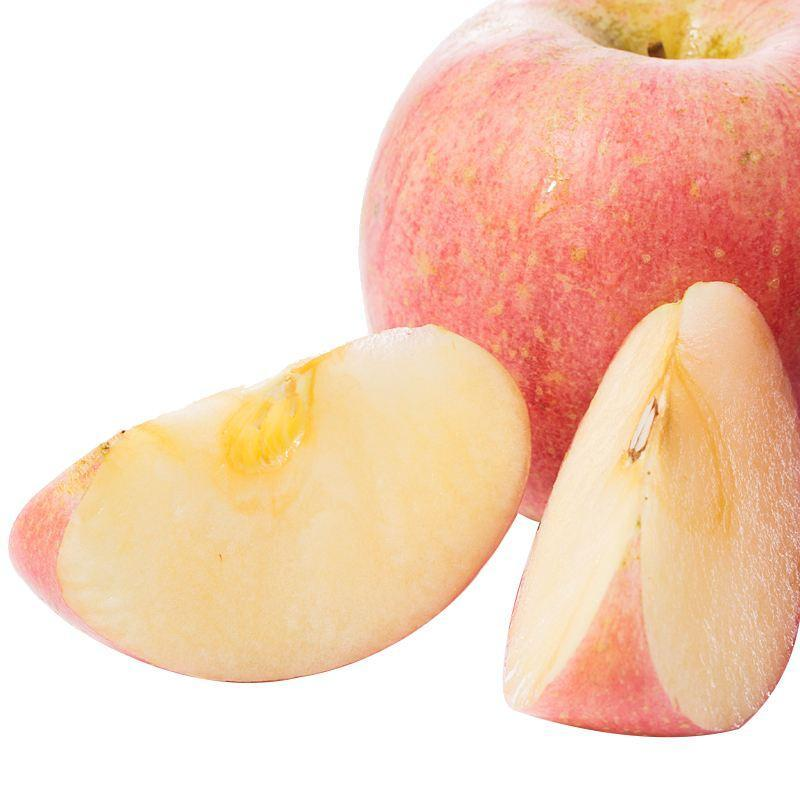apple: (356, 1, 795, 518)
